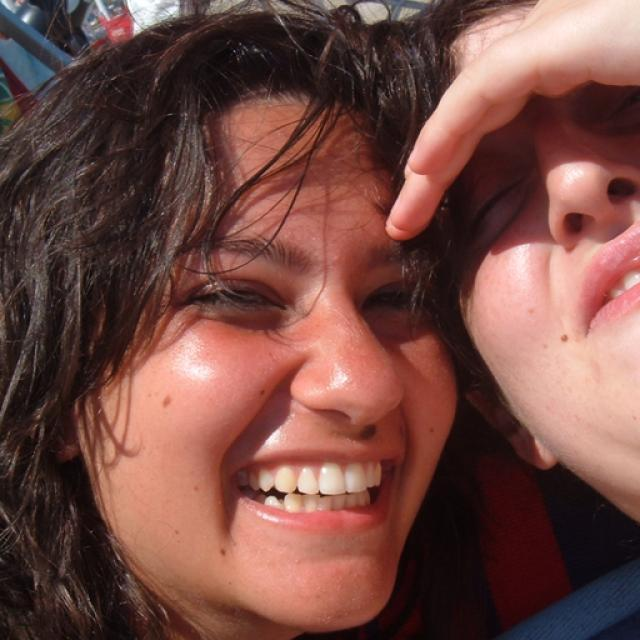disgust: (70, 87, 458, 633), (450, 0, 639, 525)
